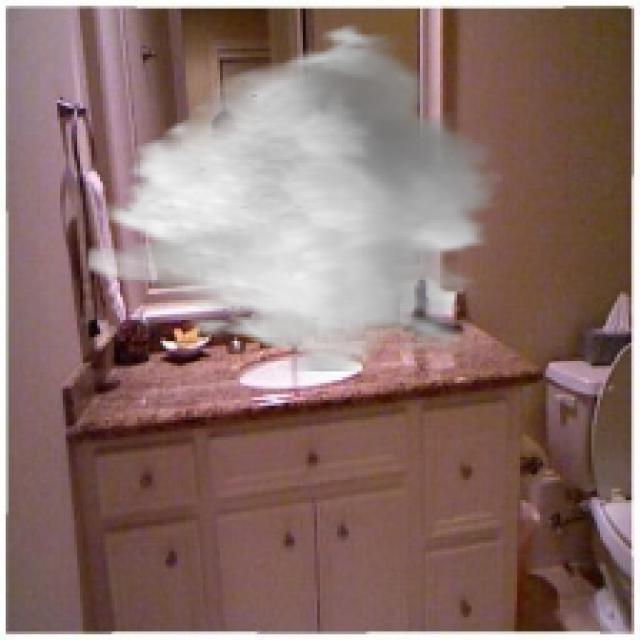smoke: (86, 17, 503, 372)
